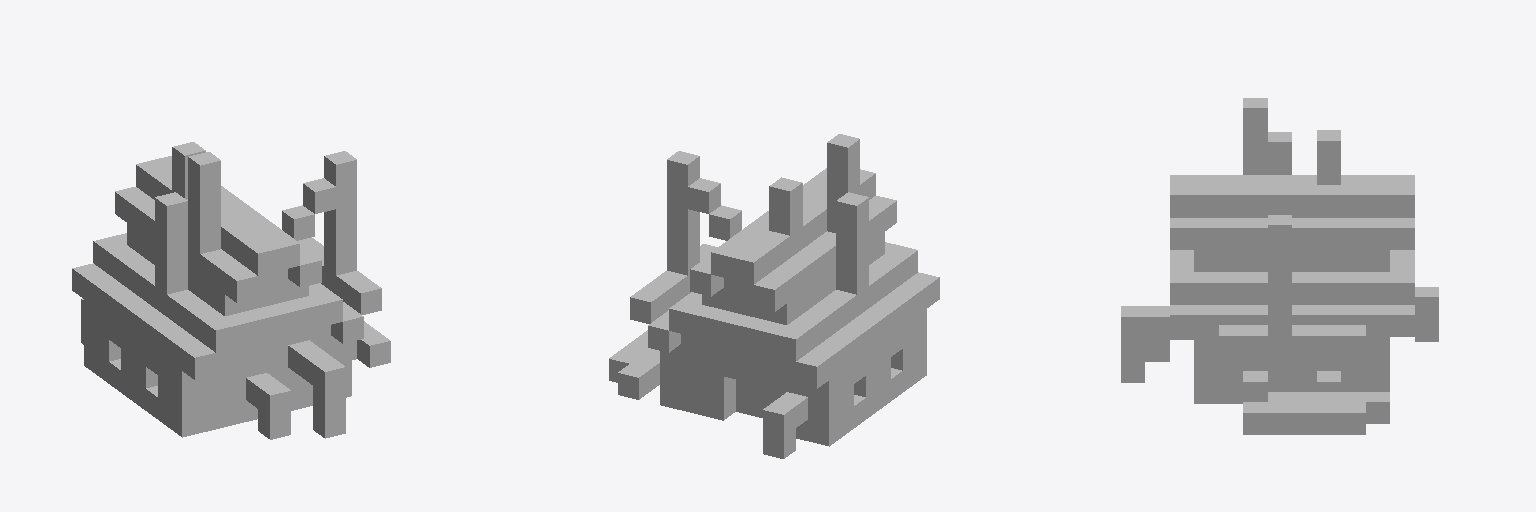
The model's file is civ_woodhouse3.obj.
3 views of the same model, side by side, from view 1: azimuth 30°, elevation 25°; view 2: azimuth 150°, elevation 25°; view 3: azimuth 270°, elevation 25° (orthographic).
Visible parts, largest first — view 1: model.002; view 2: model.002; view 3: model.002.
Boxes of the visible parts, x1,y1,x2,y2 form: model.002: [72, 142, 390, 439]; model.002: [609, 134, 939, 458]; model.002: [1121, 98, 1438, 434].
Bounding box in the file's own units: 0.6875 × 0.6875 × 0.8125.